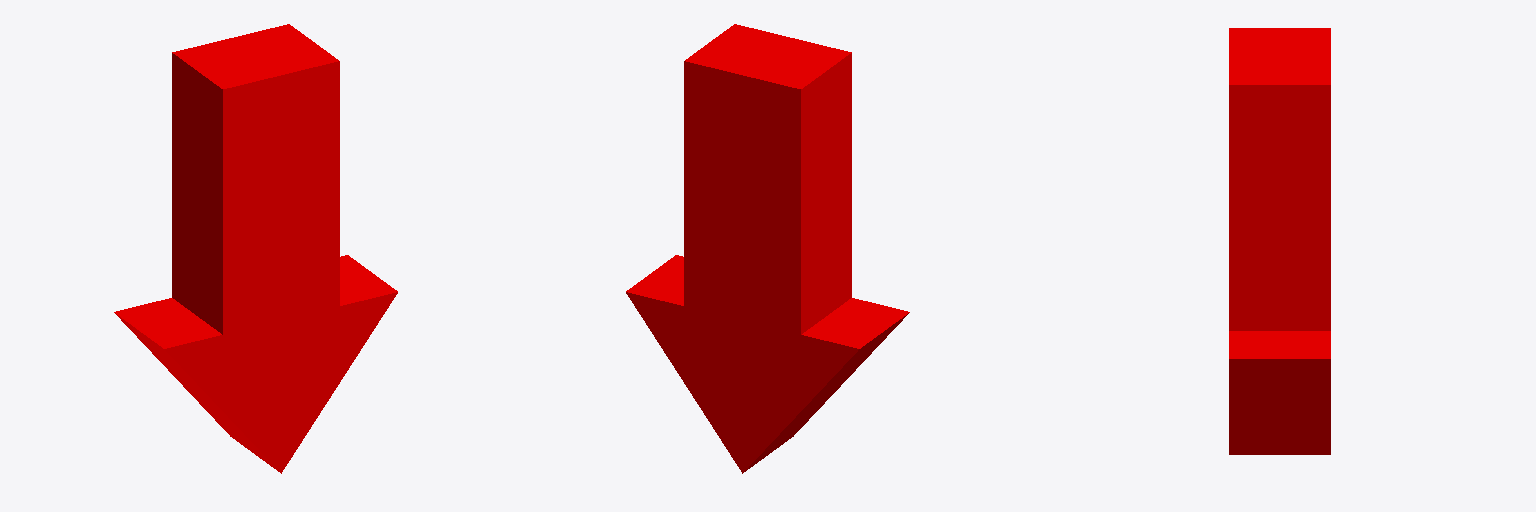
Rendered from pump_arrow.obj.
3 renders of one model, left to right at view 1: azimuth 30°, elevation 25°; view 2: azimuth 150°, elevation 25°; view 3: azimuth 270°, elevation 25°, orthographic.
Parts seen in each view (by area): view 1: Valve_Arrow; view 2: Valve_Arrow; view 3: Valve_Arrow.
Part boxes in pixels (x1,y1,x2,y2): Valve_Arrow: (114,24,397,473); Valve_Arrow: (626,24,909,473); Valve_Arrow: (1229,28,1330,454).
Bounding box in the file's own units: 0.008 × 0.013 × 0.003.